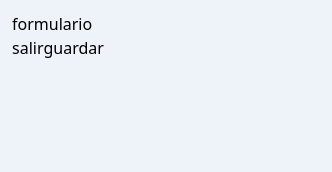
Test: useConfirmarSalida › limpio: navega sin preguntar
Click the link "salir" at coordinates (28, 48), box [12,37,44,59]
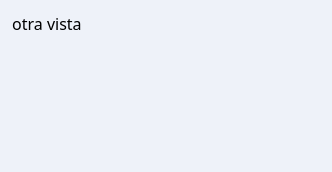
Expected: the text "otra vista" is shown, [12,13,82,35]
